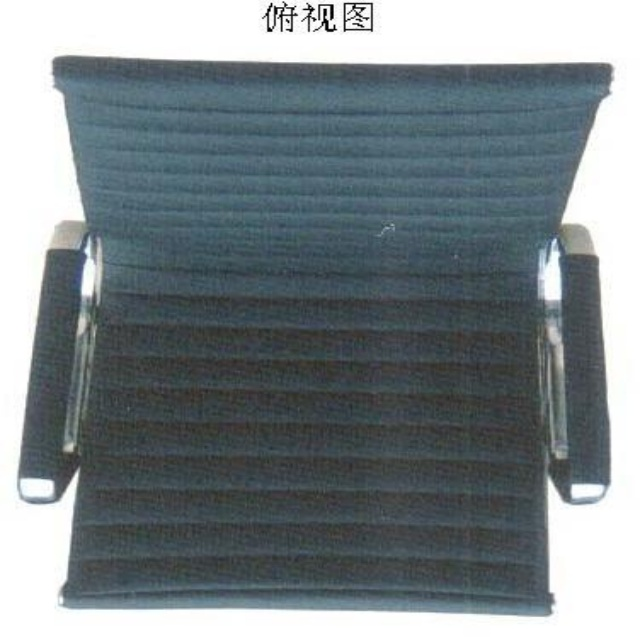obstacle: (19, 56, 609, 612)
